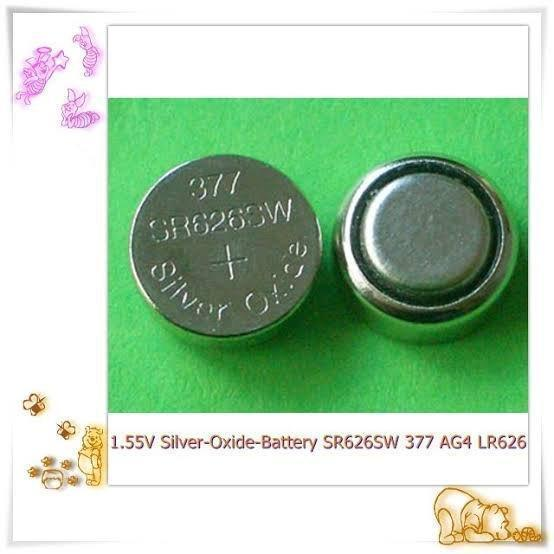COIN: (126, 150, 328, 356), (331, 148, 523, 352)
